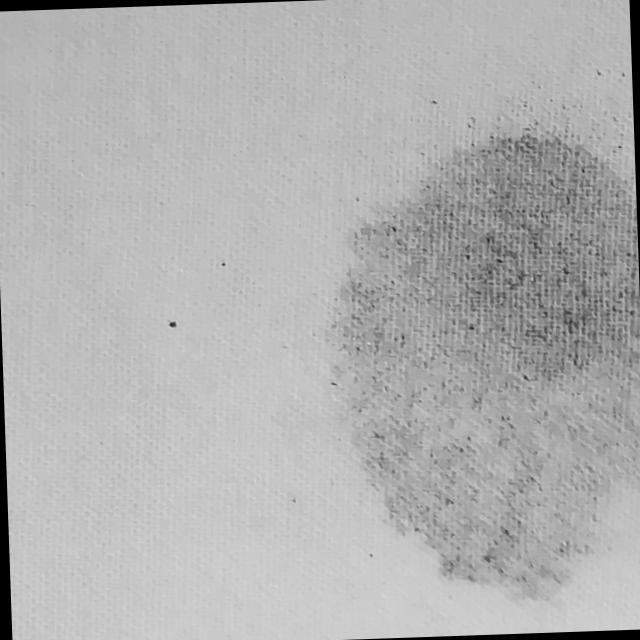Stain: (323, 130, 640, 613)
